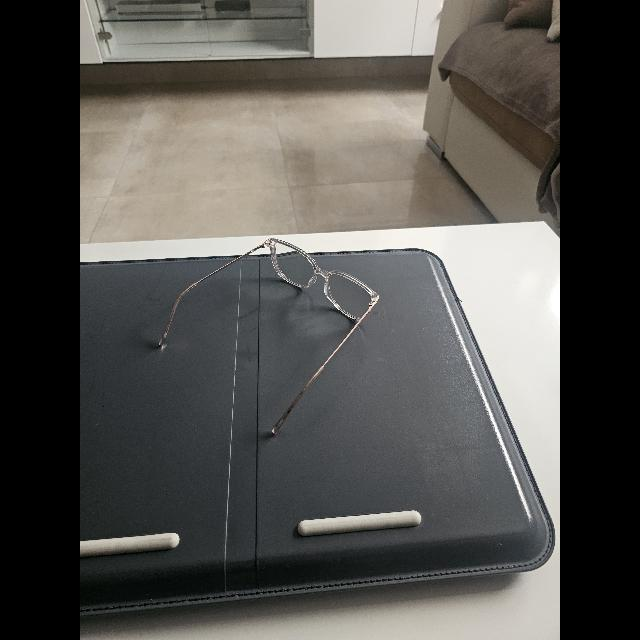glasses: (159, 238, 379, 434)
